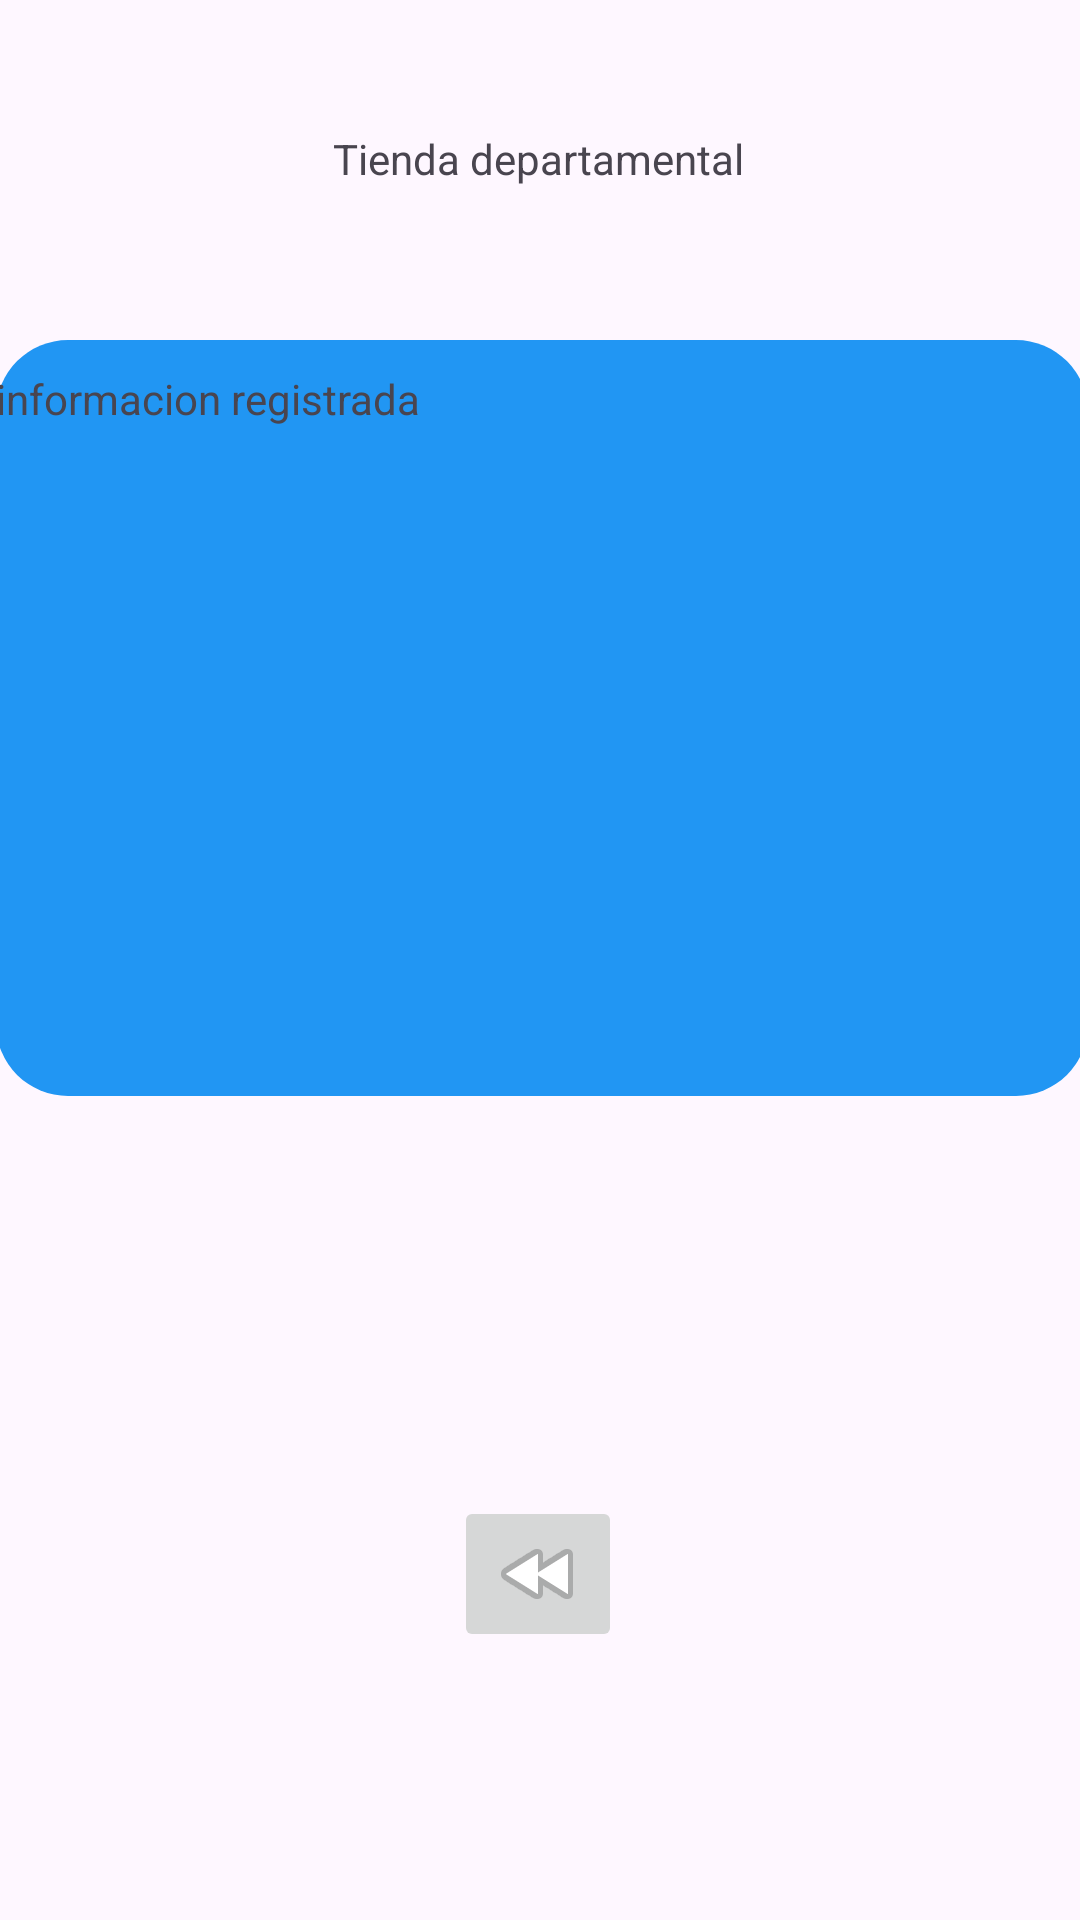

Named icons in this screenshot (1080px×1920px) and their bounding boxes, Rect(x1, y1, x2, y2):
rew: Rect(466, 1514, 610, 1634)
